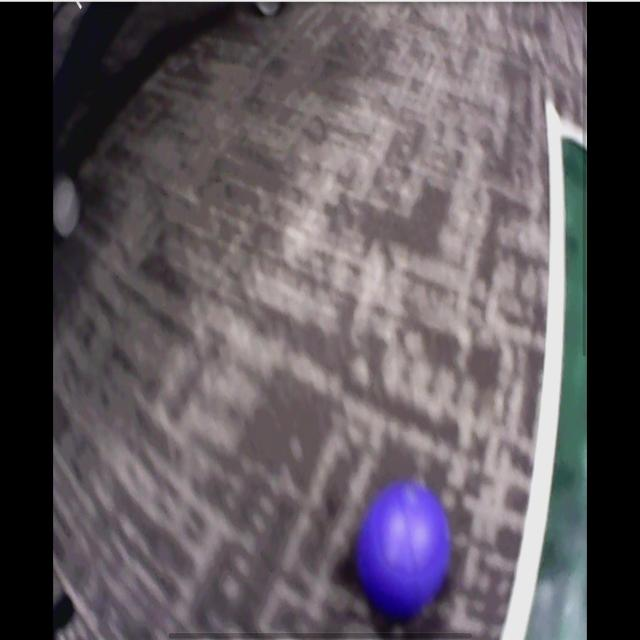ball: (362, 483, 451, 612)
